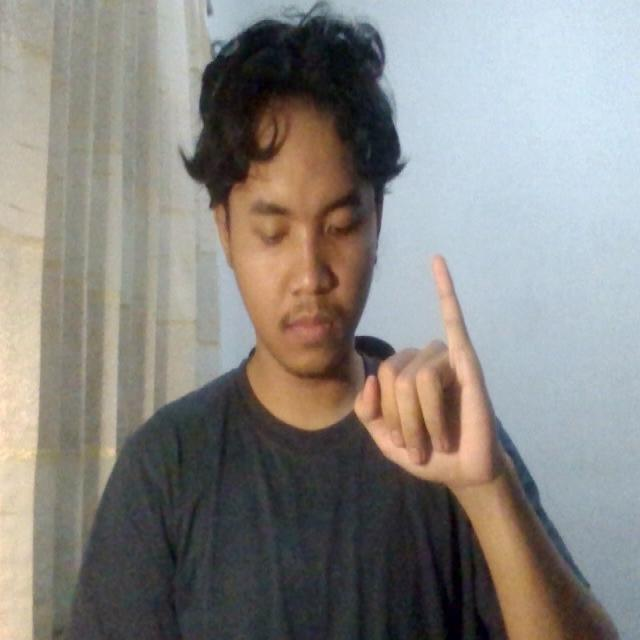Hello: (335, 237, 523, 528)
